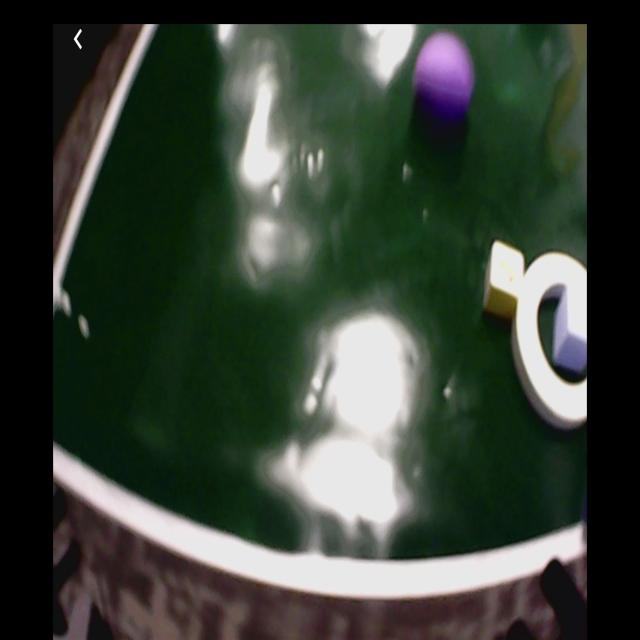ball: (414, 36, 479, 130)
